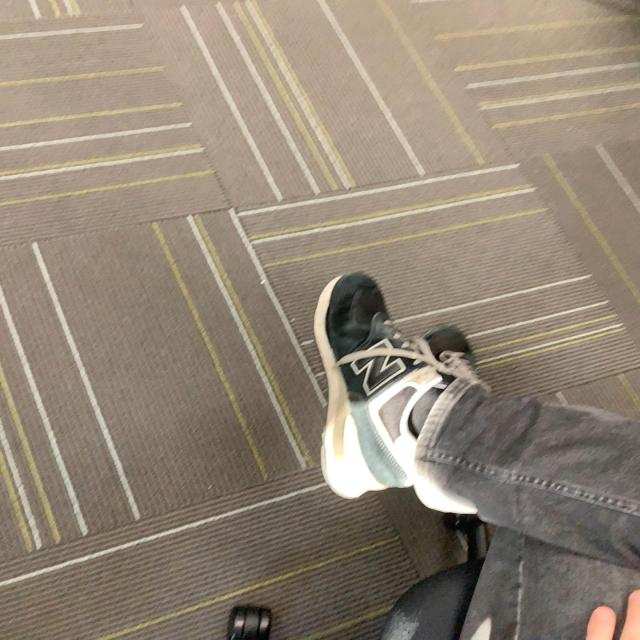shoe: (315, 273, 434, 500)
